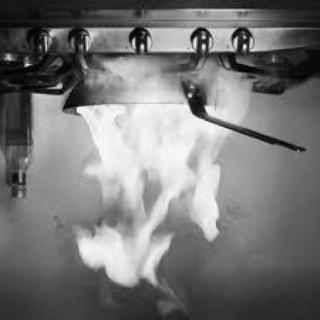Fire: (60, 100, 236, 302)
